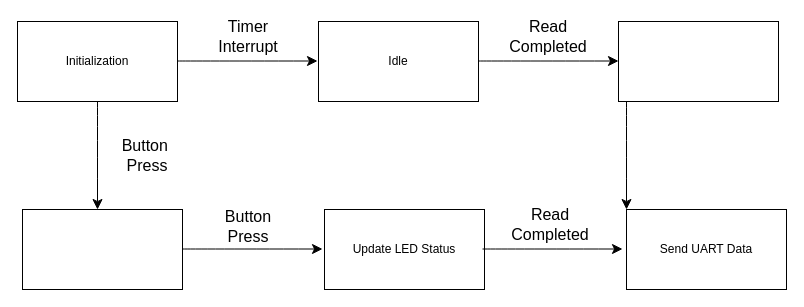
The diagram is 804 pixels wide and 307 high, and some of its shapes have lost their labels. Each missing label, with the box of its shape:
Handle Button: (22, 208, 182, 290)
Read Temperature: (618, 20, 778, 102)
